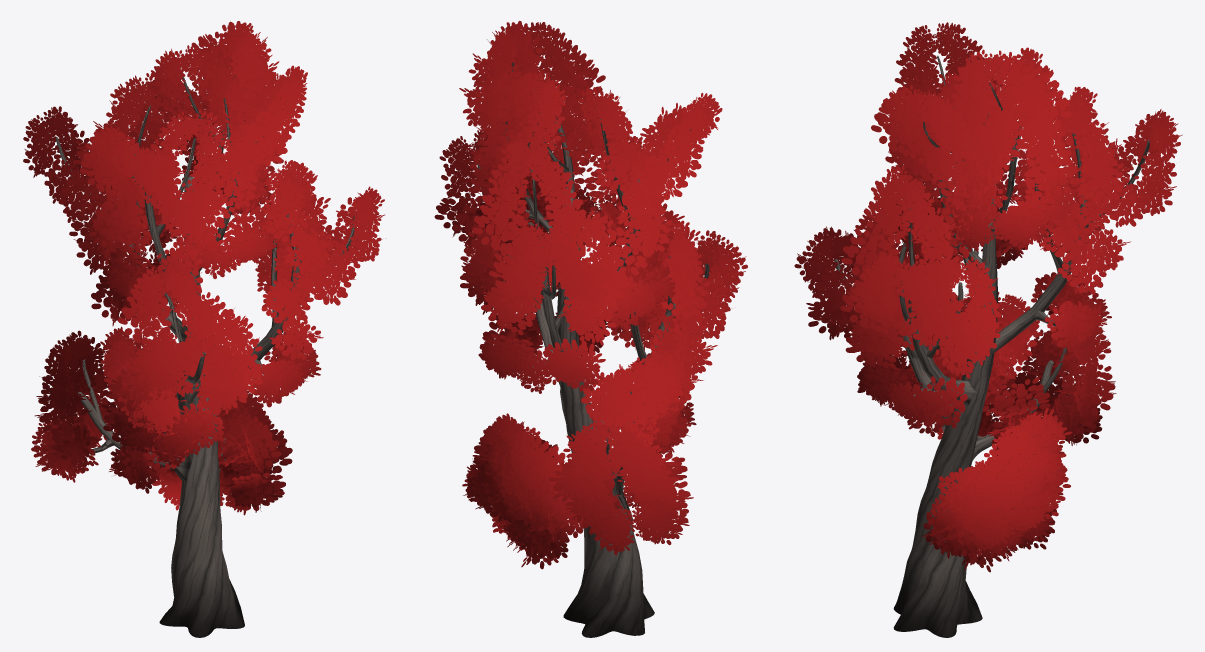
File: TwistedTree_4.gltf
3 renders of one model, left to right at view 1: azimuth 30°, elevation 25°; view 2: azimuth 150°, elevation 25°; view 3: azimuth 270°, elevation 25°, orthographic. The views are drawn at different scales.
Parts seen in each view (by area): view 1: TwistedTree_4; view 2: TwistedTree_4; view 3: TwistedTree_4.
Part boxes in pixels (x1,y1,x2,y2): TwistedTree_4: (23, 21, 384, 637); TwistedTree_4: (434, 21, 747, 637); TwistedTree_4: (794, 22, 1182, 637).
Size of the model in its own units: 10.38 by 18.74 by 11.29.
2 materials, 2 textured.
